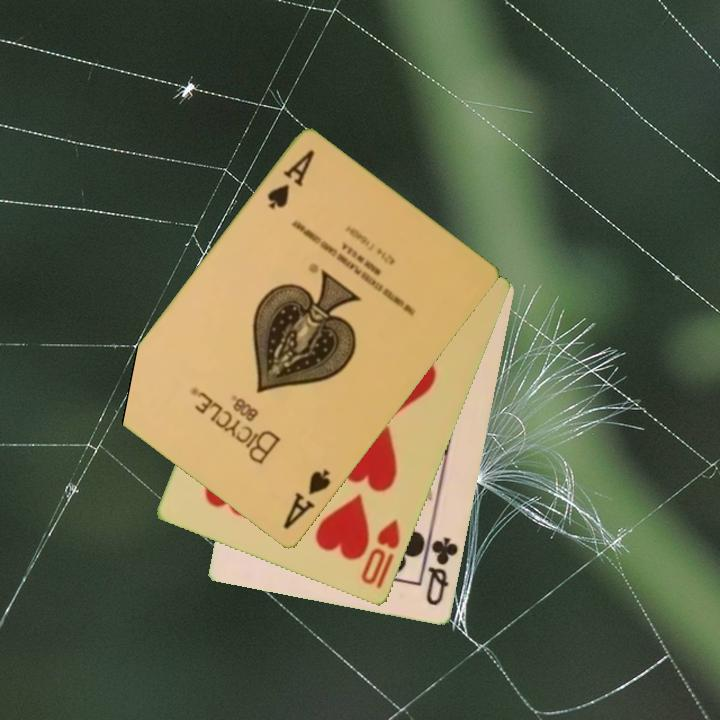10h: (357, 516, 403, 593)
As: (279, 466, 334, 533), (264, 146, 318, 214)
Qc: (423, 529, 462, 609)
